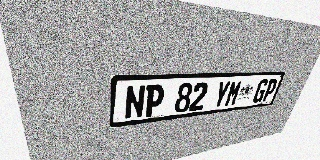2: (189, 82, 209, 111)
8: (174, 83, 195, 113)
G: (251, 79, 270, 103)
M: (224, 80, 243, 107)
N: (124, 85, 146, 120)
P: (144, 84, 165, 117), (261, 78, 279, 102)
Y: (212, 81, 231, 108)
